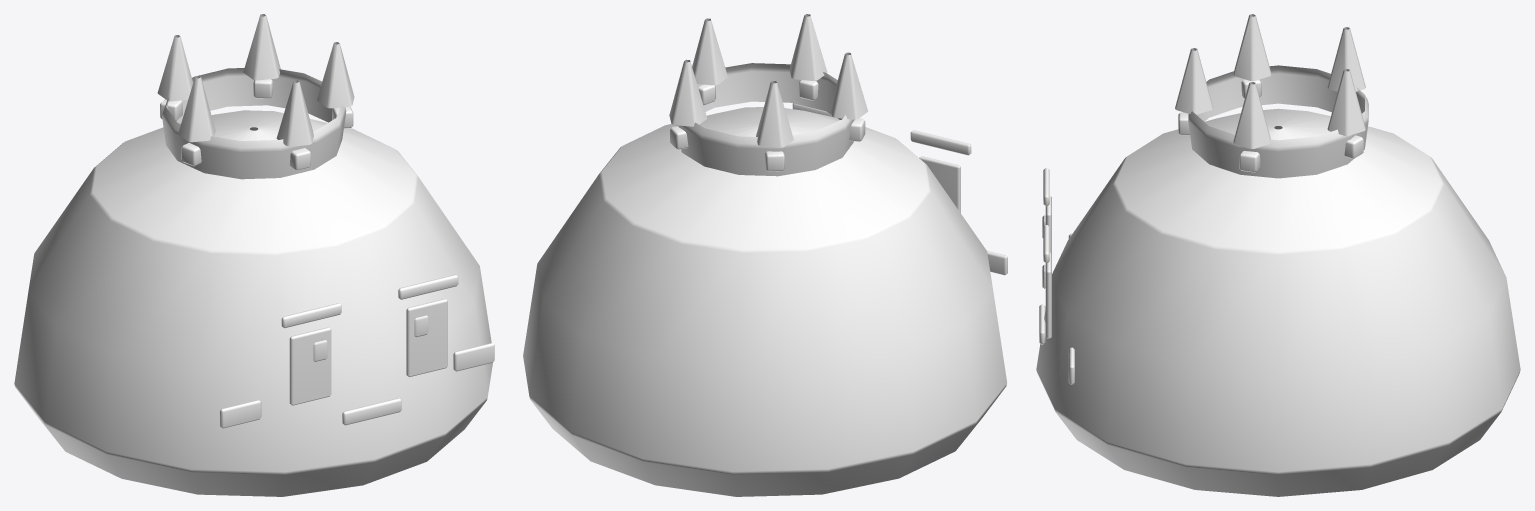
File: raja_jelly.glb
The picture shows the model from 3 angles, left to right: view 1: azimuth 30°, elevation 25°; view 2: azimuth 150°, elevation 25°; view 3: azimuth 270°, elevation 25°; orthographic projection.
Parts seen in each view (by area): view 1: Body.002, Crown; view 2: Body.002, Crown; view 3: Body.002, Crown.
Part boxes in pixels (x1,y1,x2,y2): Body.002: (14, 110, 494, 496); Crown: (157, 14, 354, 179); Body.002: (523, 103, 1007, 496); Crown: (669, 14, 867, 176); Body.002: (1036, 108, 1520, 496); Crown: (1175, 14, 1368, 178).
Size of the model in its own units: 2.3 by 1.86 by 2.3.
1 material, 1 textured.
